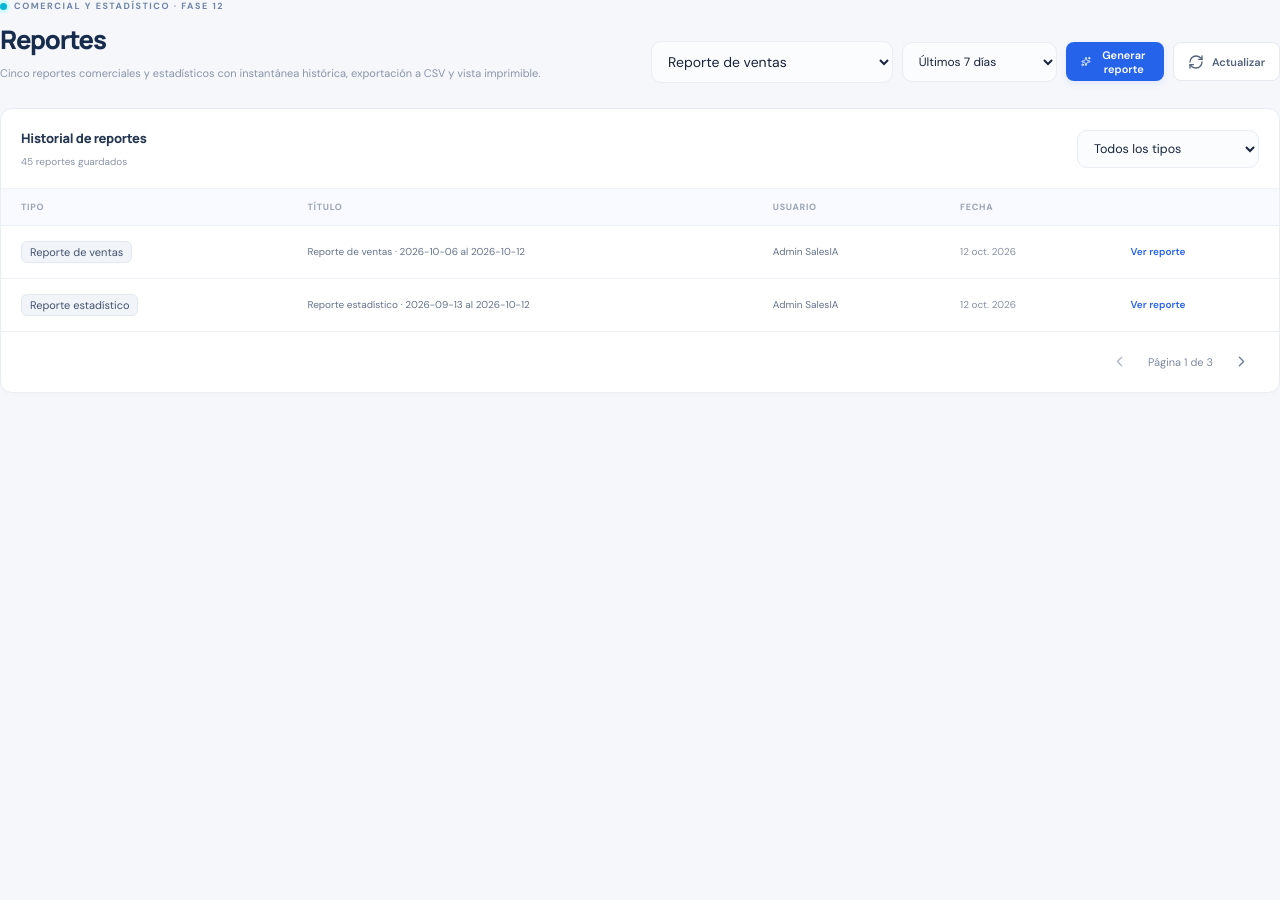
Scenario: ReportsPage › genera un reporte, avisa y abre su instantánea
This screenshot has width=1280, height=900.
Select "Reporte estadístico" in the dropdown named "Tipo de reporte a generar" at (772, 62), box top-left (651, 41), bottom-right (893, 83)
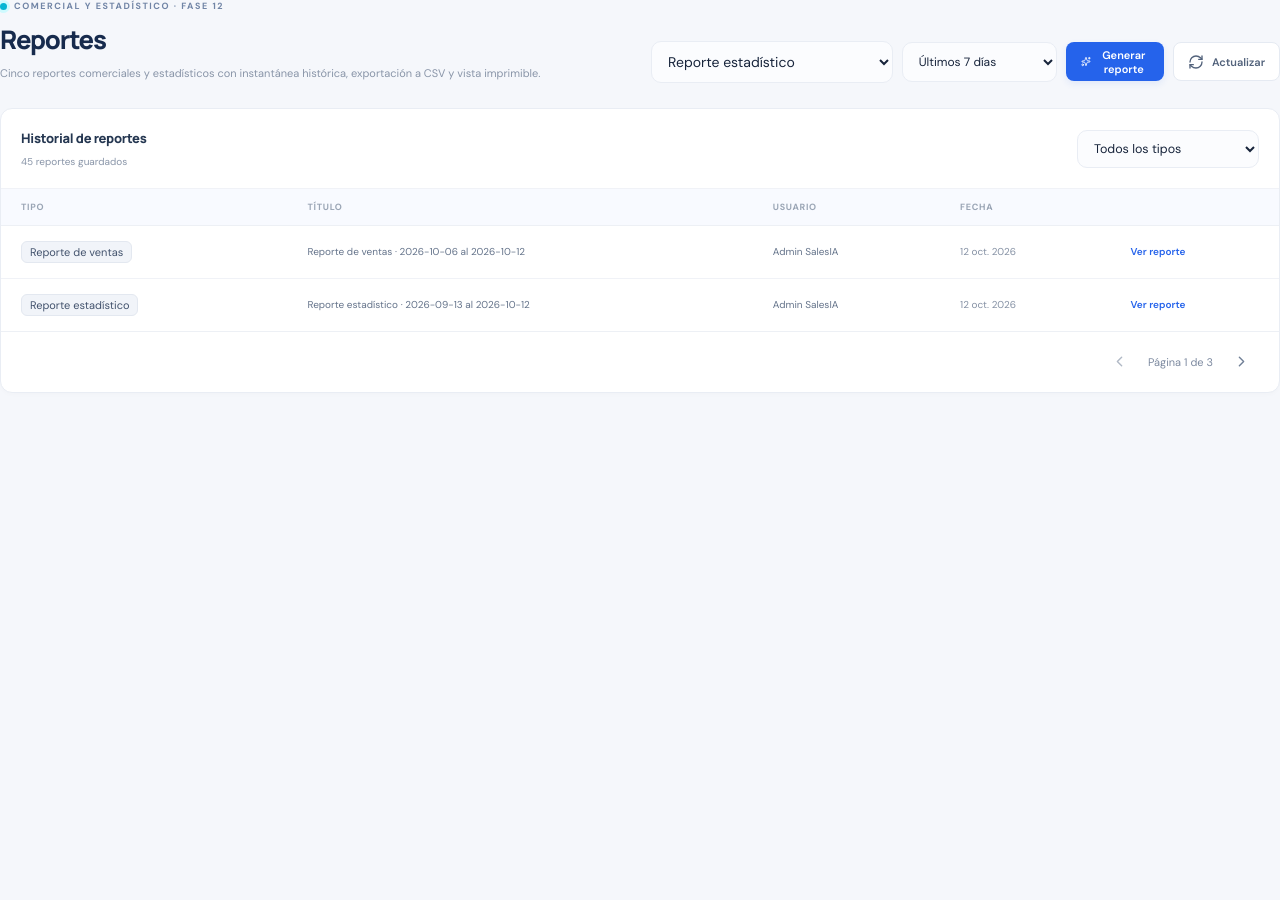
Select "Últimos 30 días" in the dropdown named "Período del reporte" at (979, 62), box top-left (902, 42), bottom-right (1057, 82)
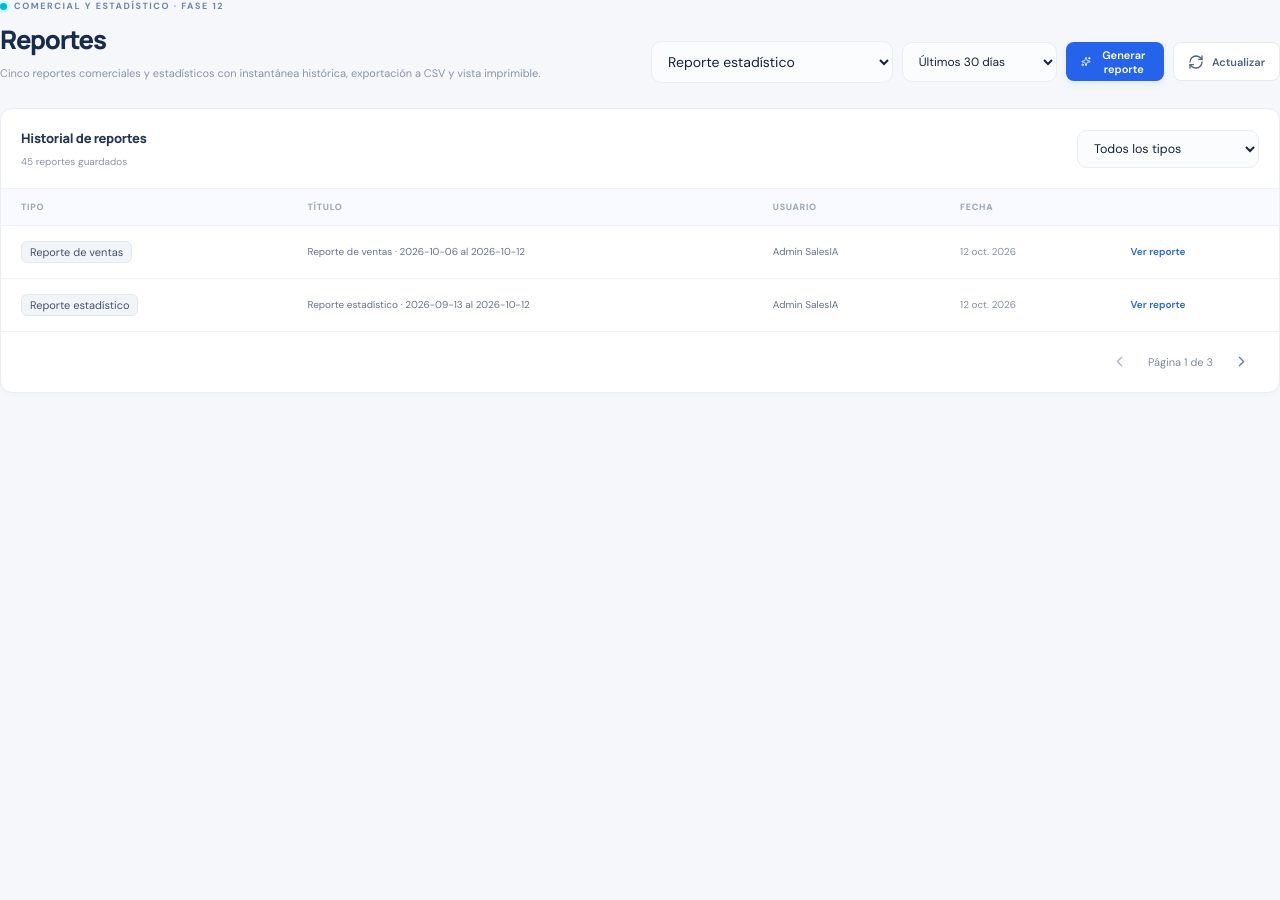
Click the button "Generar reporte" at (1115, 62), box top-left (1066, 42), bottom-right (1164, 81)
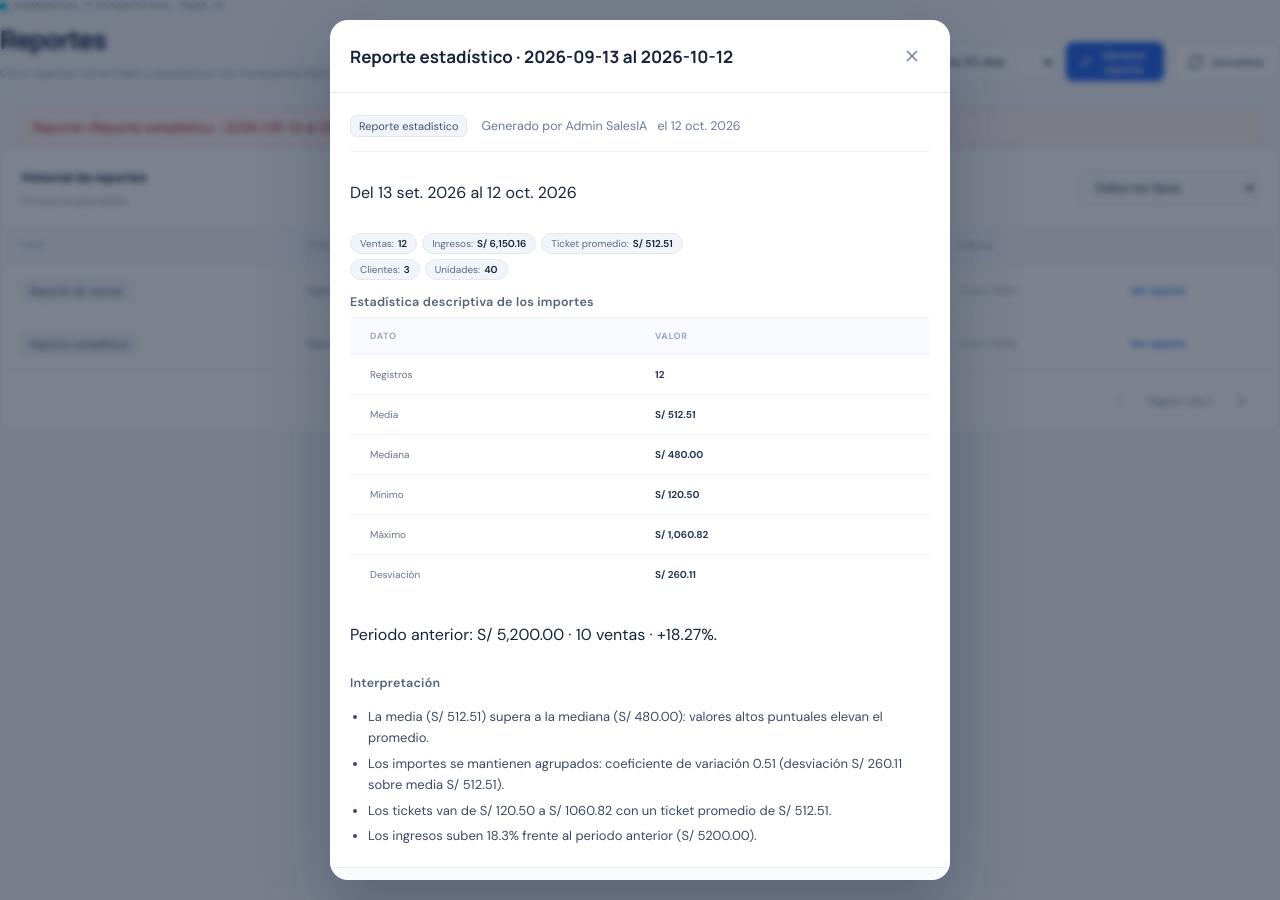
Now the text "generado correctamente" is shown, box top-left (33, 119), bottom-right (561, 136)
Now the list item "coeficiente de variación" is shown, box top-left (368, 755), bottom-right (902, 793)
Now the text "Registros" is shown, box top-left (350, 354), bottom-right (635, 394)
